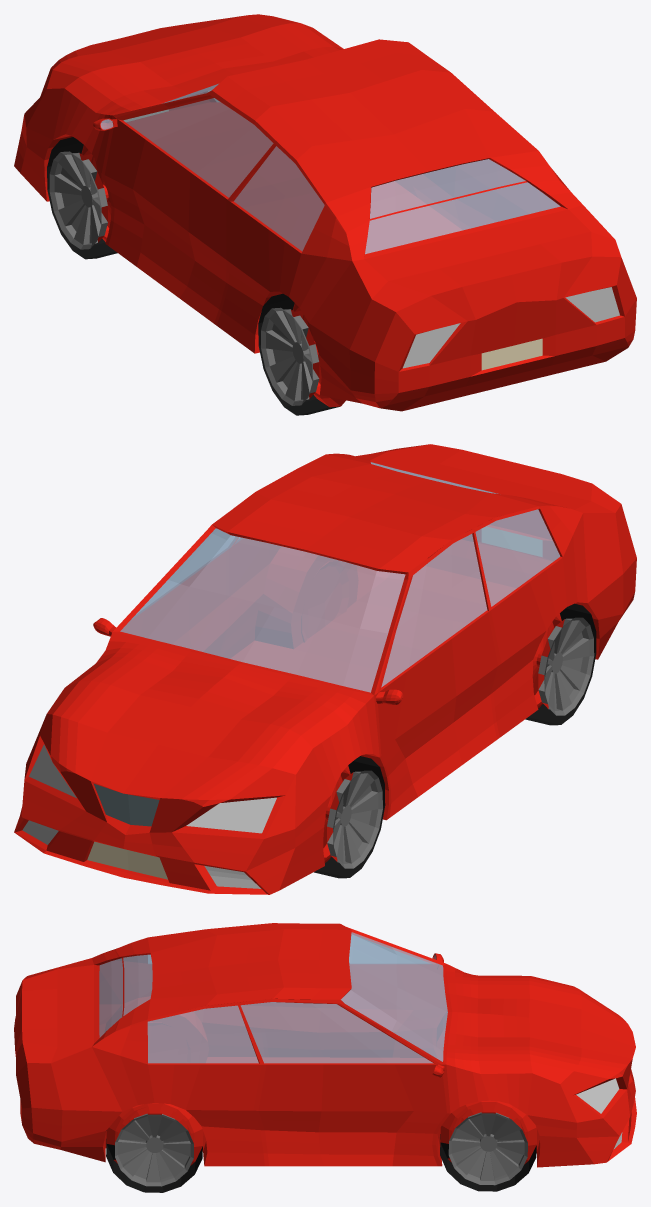
3 renders of one model, top to bottom at view 1: azimuth 30°, elevation 25°; view 2: azimuth 150°, elevation 25°; view 3: azimuth 270°, elevation 25°, orthographic. The views are drawn at different scales.
Parts seen in each view (by area): view 1: Cube, Cube.003, Cube.002; view 2: Cube, Cube.003, Cube.002; view 3: Cube, Cube.001, Cube.004.
Part boxes in pixels (x1,y1,x2,y2): Cube: (14, 14, 636, 411); Cube.003: (258, 293, 345, 415); Cube.002: (47, 137, 117, 259); Cube: (14, 444, 636, 894); Cube.003: (525, 603, 596, 725); Cube.002: (314, 756, 385, 878); Cube: (14, 923, 636, 1167); Cube.001: (440, 1100, 536, 1191); Cube.004: (106, 1103, 203, 1192).
Size of the model in its own units: 205 by 146 by 455.
